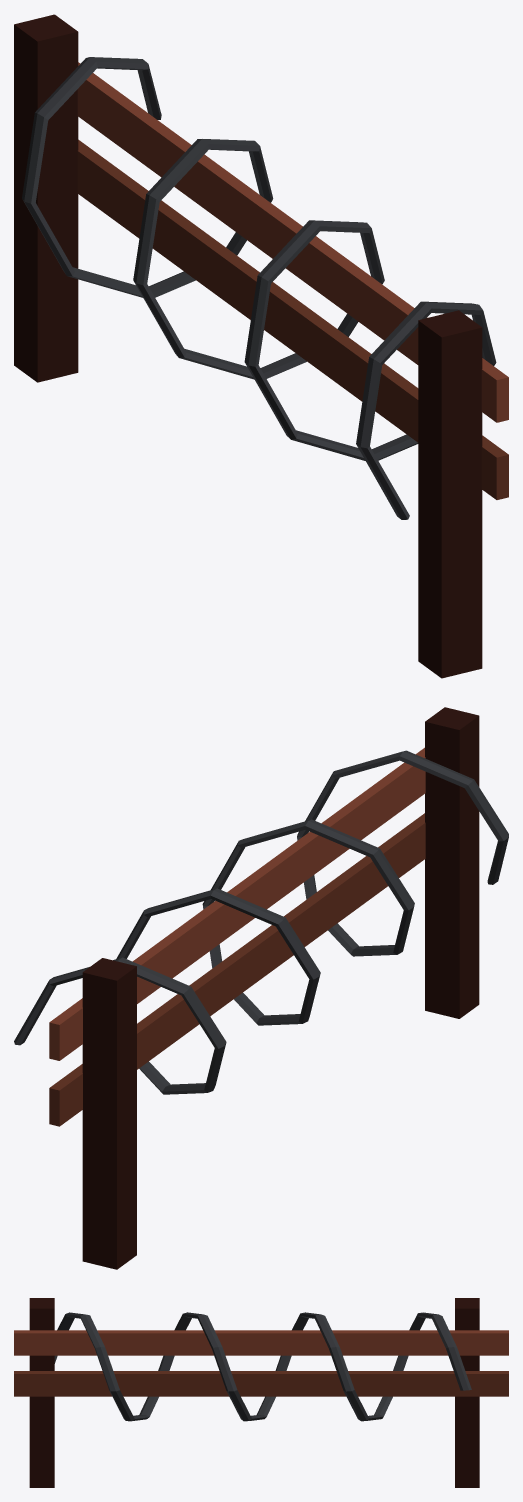
Rendered from SM_Barriers_11.fbx.
3 renders of one model, top to bottom at view 1: azimuth 30°, elevation 25°; view 2: azimuth 150°, elevation 25°; view 3: azimuth 270°, elevation 25°, orthographic. The views are drawn at different scales.
Parts seen in each view (by area): view 1: SM_Barriers_11; view 2: SM_Barriers_11; view 3: SM_Barriers_11.
Part boxes in pixels (x1,y1,x2,y2): SM_Barriers_11: (14,14,508,678); SM_Barriers_11: (14,707,508,1269); SM_Barriers_11: (14,1298,508,1487).
Size of the model in its own units: 46.89 by 80 by 200.
